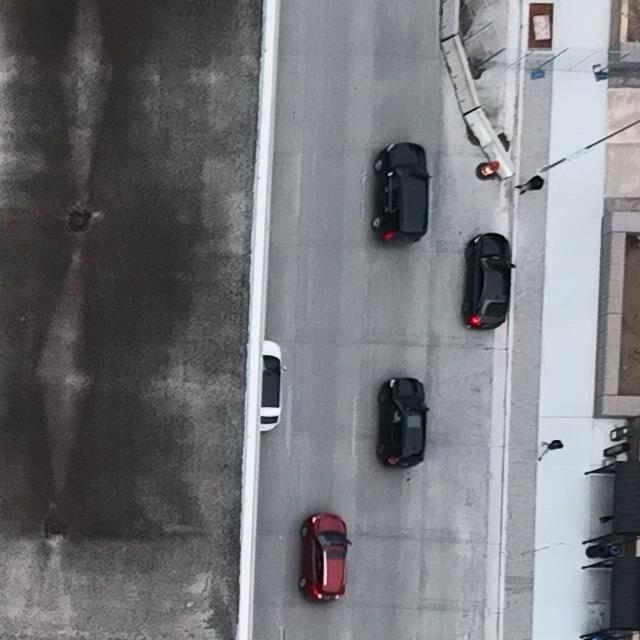car: (371, 142, 431, 245), (461, 233, 518, 329), (375, 377, 430, 471), (297, 511, 352, 604), (260, 338, 286, 434)
